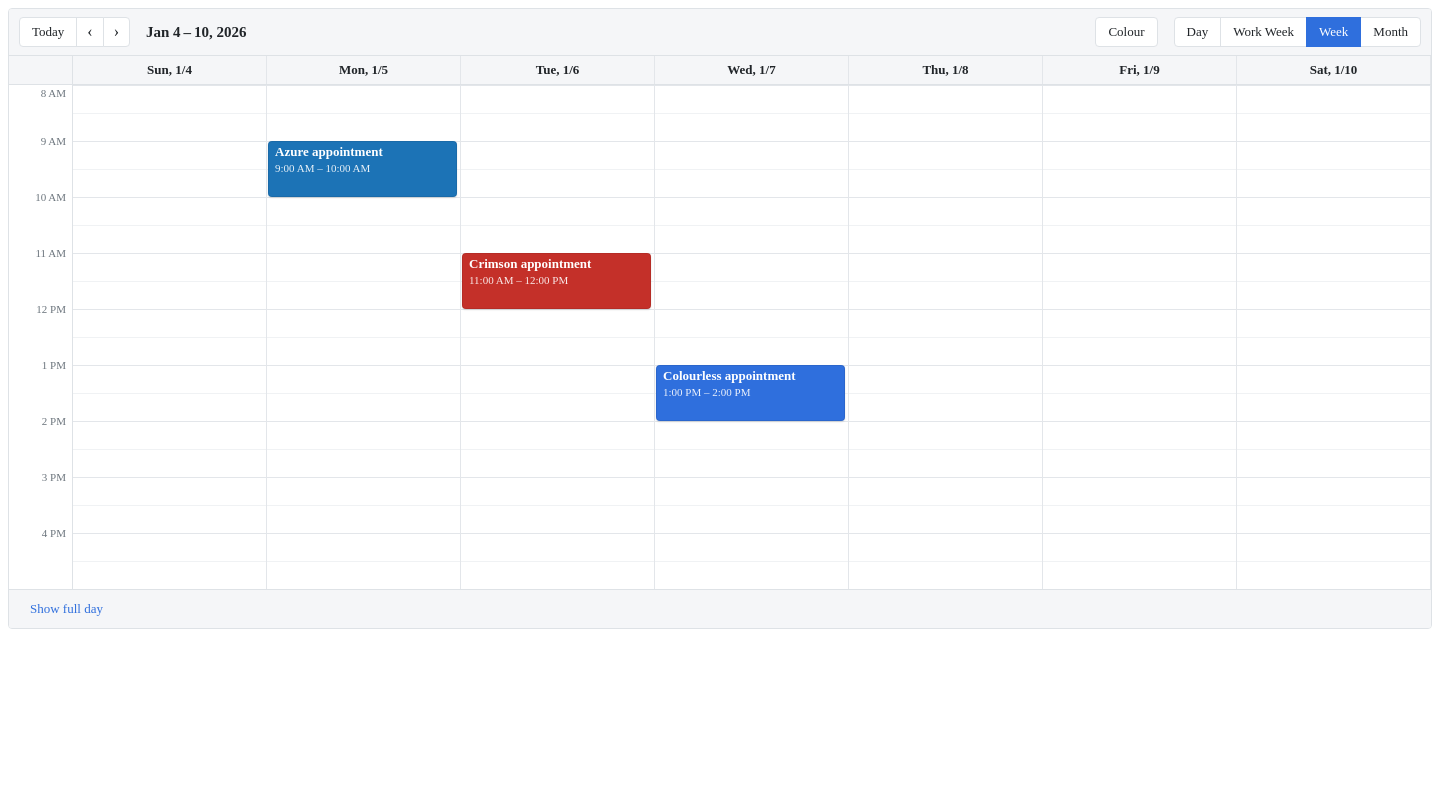
Test case: views › switches view and marks the active tab
Click the tab "Month" at (1391, 32), box x1=1360 y1=17 x2=1421 y2=47
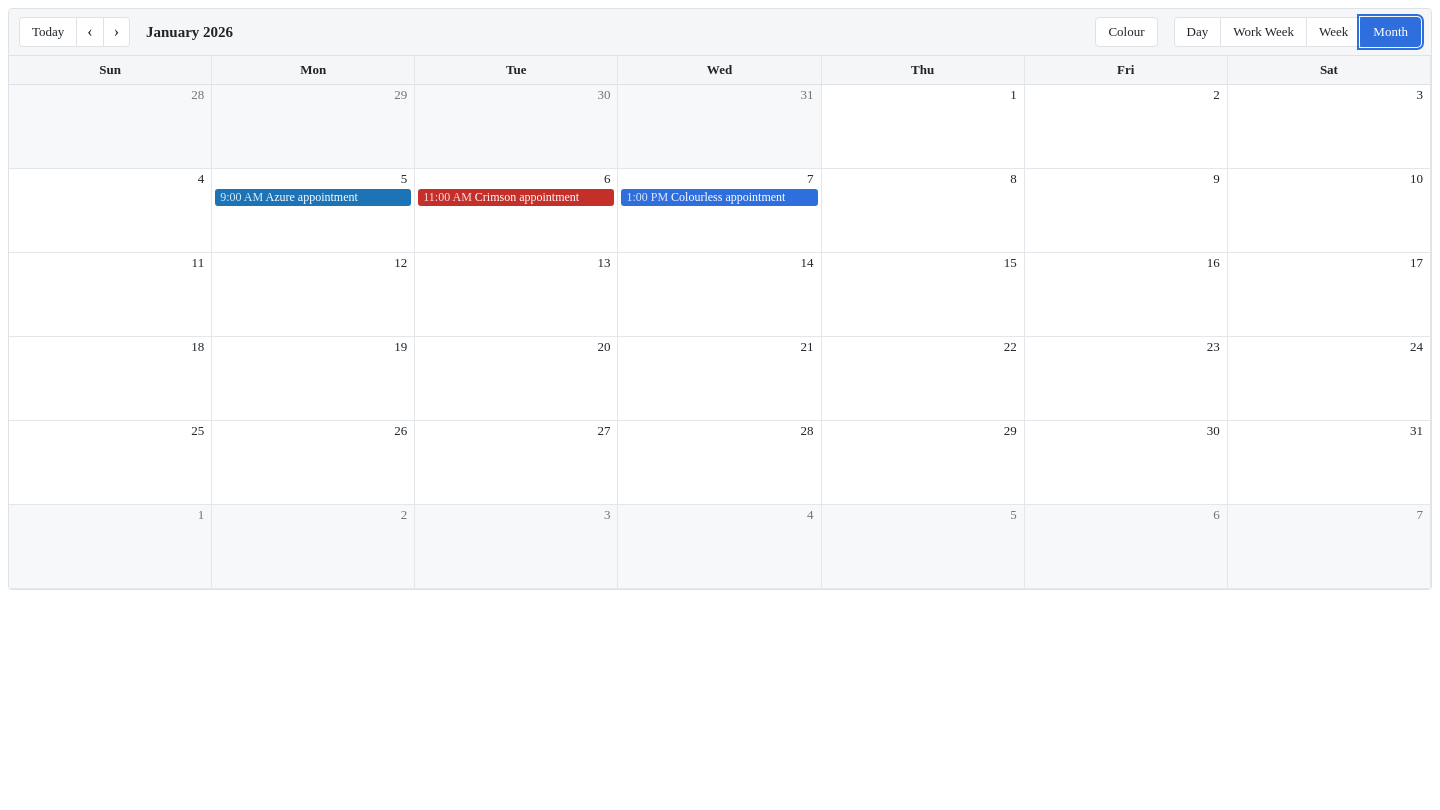
Now the text "January 2026" is shown, box x1=146 y1=24 x2=233 y2=40
